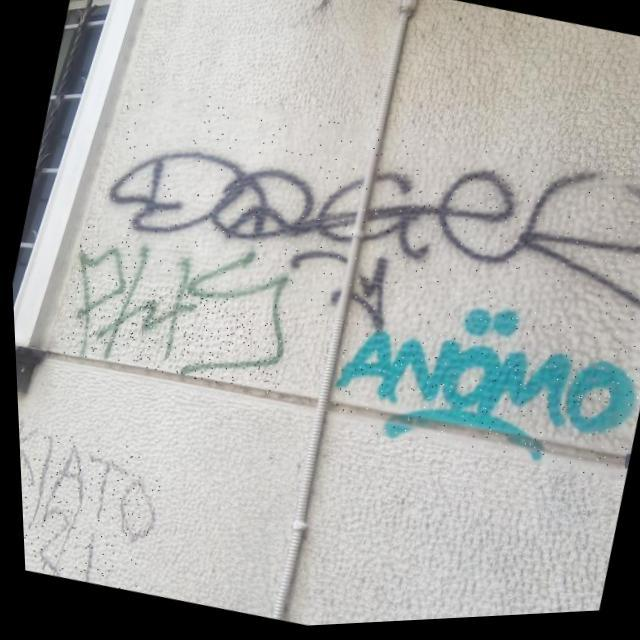-: (84, 61, 640, 408), (319, 274, 640, 500), (49, 210, 306, 406), (15, 414, 173, 599)
